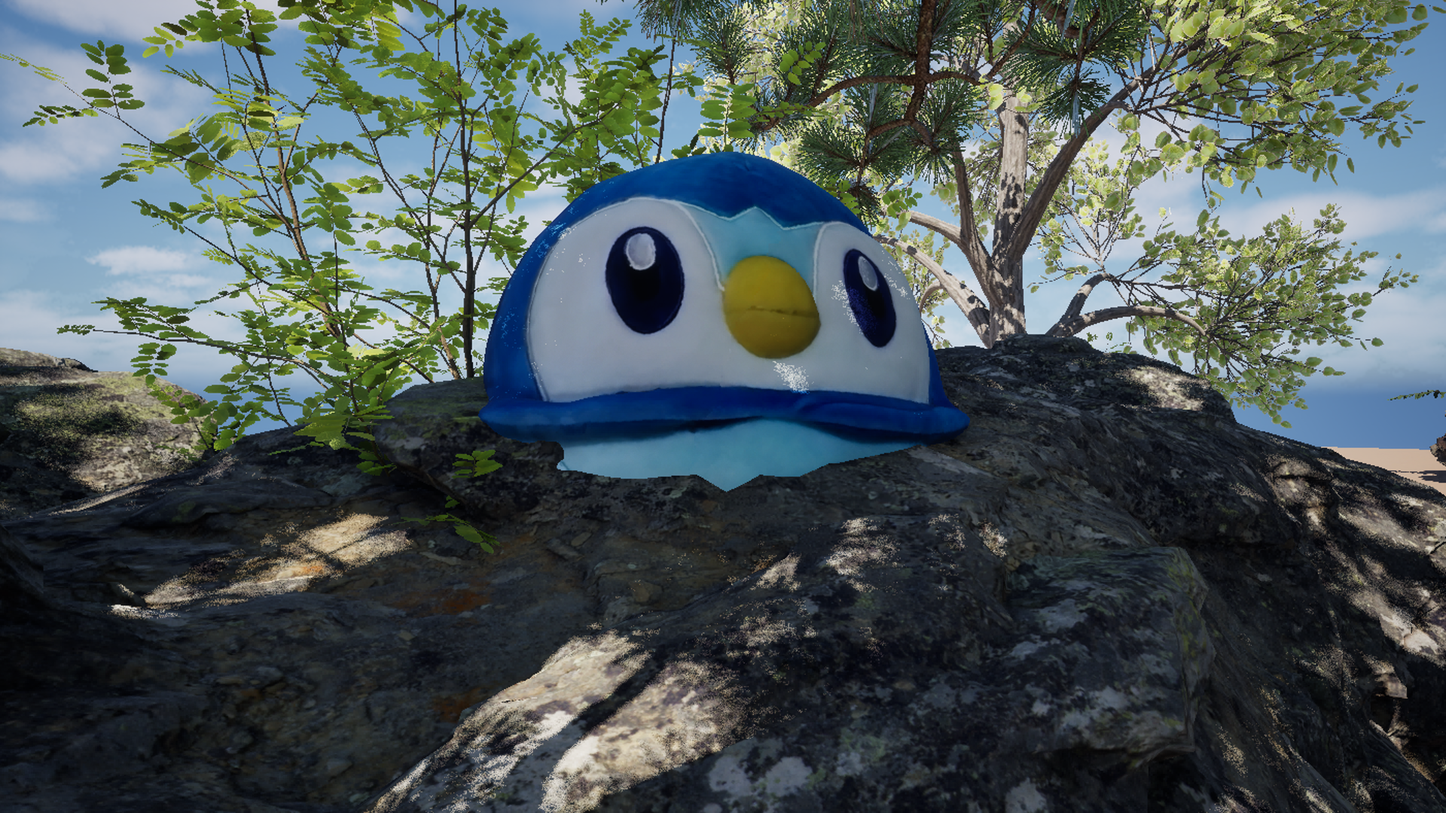Piplup: (224, 0, 1130, 813)
